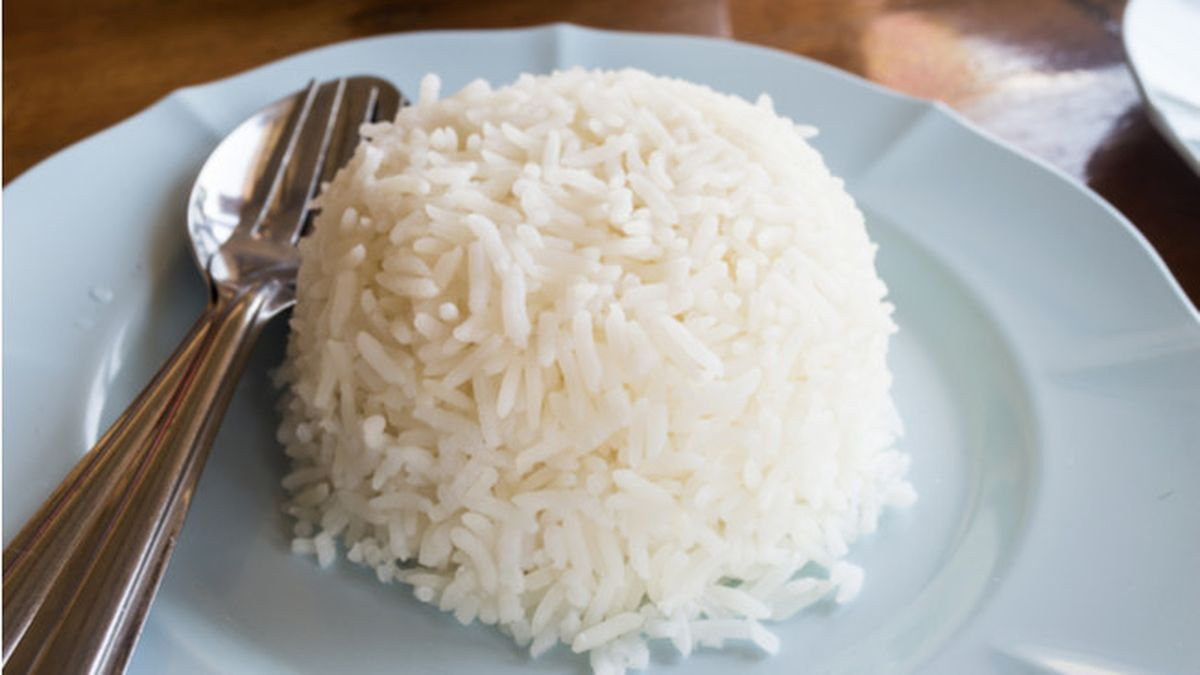Nasi Putih: (201, 71, 899, 666)
